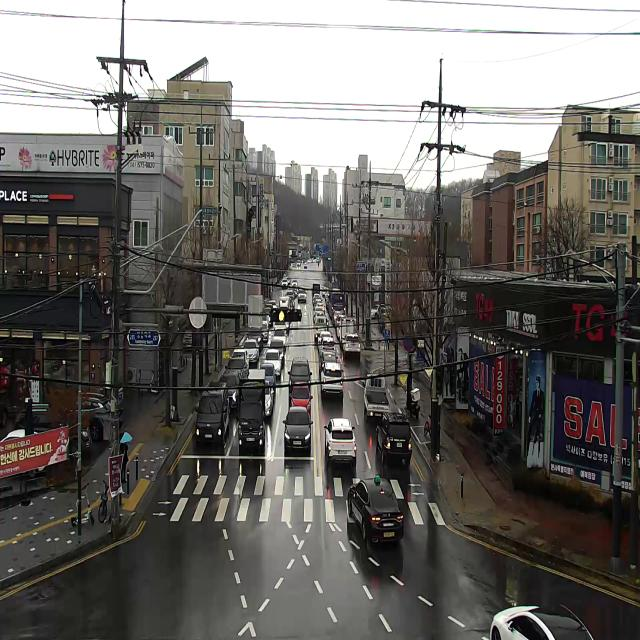Bus: (329, 288, 345, 320)
Car: (347, 476, 404, 544), (12, 412, 92, 460), (489, 606, 594, 640), (236, 369, 265, 452), (194, 383, 230, 448), (0, 429, 45, 478), (376, 412, 412, 464), (74, 392, 110, 442), (323, 419, 357, 465), (282, 406, 314, 452), (288, 356, 312, 392), (289, 382, 313, 418), (220, 370, 239, 410), (321, 363, 344, 396), (262, 349, 282, 377), (224, 358, 246, 380), (342, 333, 360, 358), (242, 340, 260, 364), (268, 340, 286, 363), (229, 349, 249, 369), (260, 362, 276, 386), (314, 316, 328, 342), (320, 352, 338, 372), (247, 329, 264, 350), (265, 380, 274, 418), (319, 338, 337, 357), (272, 330, 287, 350), (372, 304, 386, 319), (314, 329, 327, 343), (318, 331, 331, 344), (332, 311, 343, 325), (183, 330, 192, 347), (336, 315, 346, 330), (262, 322, 269, 342), (314, 308, 324, 321), (314, 313, 327, 323), (311, 283, 320, 297), (315, 303, 325, 315), (275, 321, 286, 331), (298, 290, 307, 302), (288, 288, 297, 299), (262, 316, 269, 329), (268, 300, 278, 308), (313, 294, 321, 304), (313, 298, 323, 306), (286, 290, 294, 298), (282, 278, 288, 288), (336, 327, 341, 338), (322, 287, 328, 296), (263, 308, 271, 314), (291, 280, 298, 286), (286, 277, 291, 285), (325, 291, 330, 299), (265, 304, 273, 308), (326, 298, 329, 308), (296, 260, 300, 266), (304, 261, 307, 268)
Truck: (362, 374, 390, 419), (339, 318, 354, 345), (278, 296, 290, 308)
